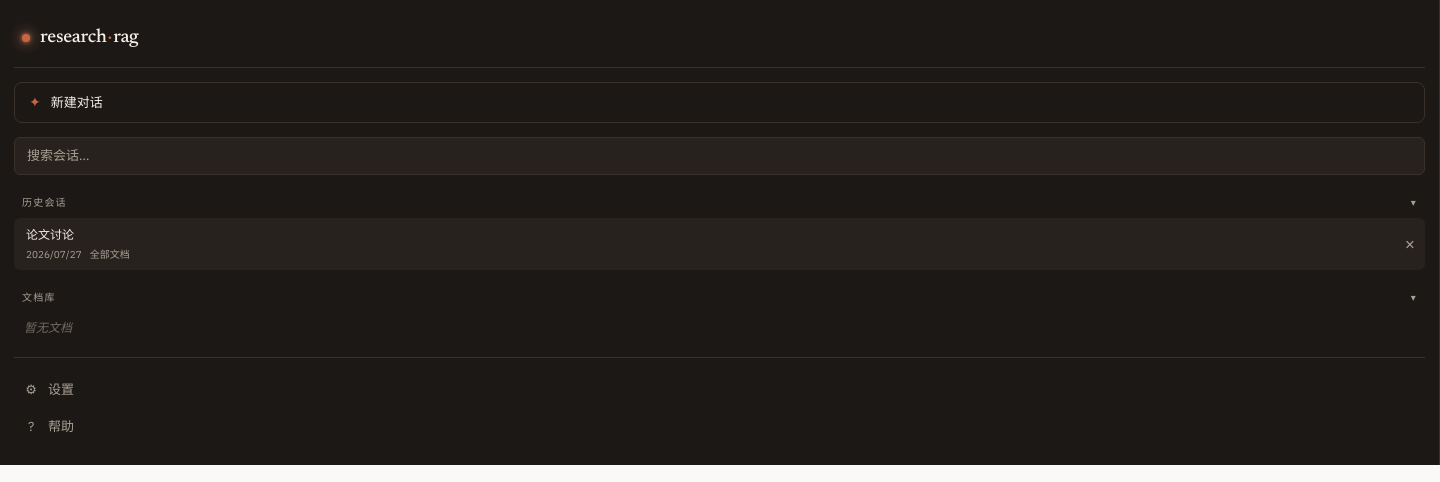
Sidebar › 删除会话不显示二次确认并在成功后刷新列表
Click the button named "删除会话 论文讨论" at x=1410, y=244, box [1396,218,1424,268]
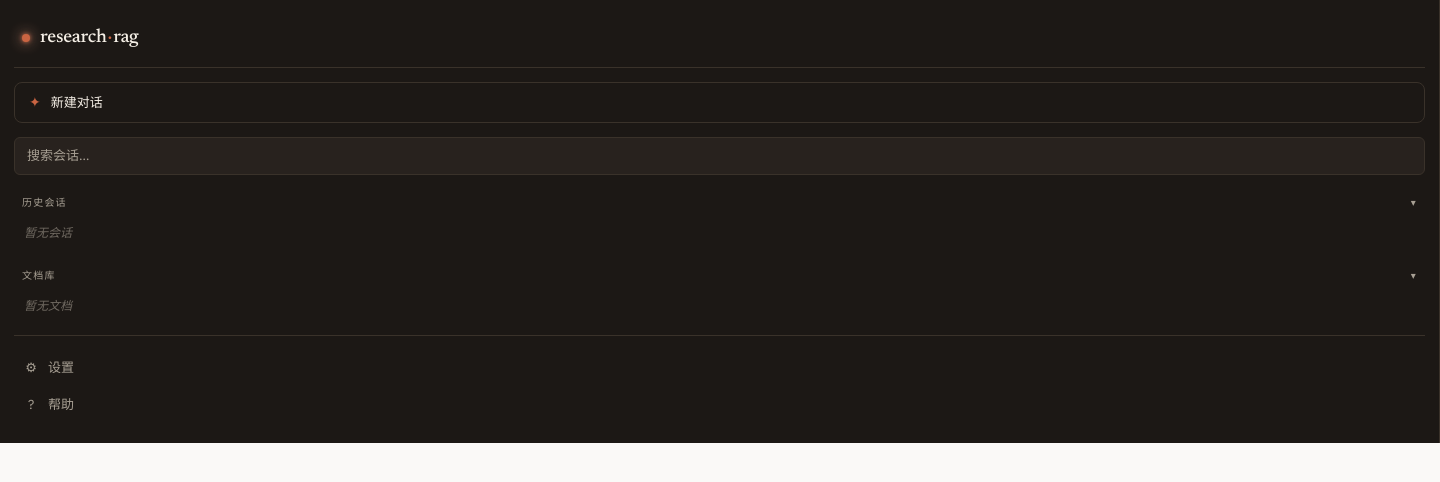
Expected: the button "论文讨论" is gone
